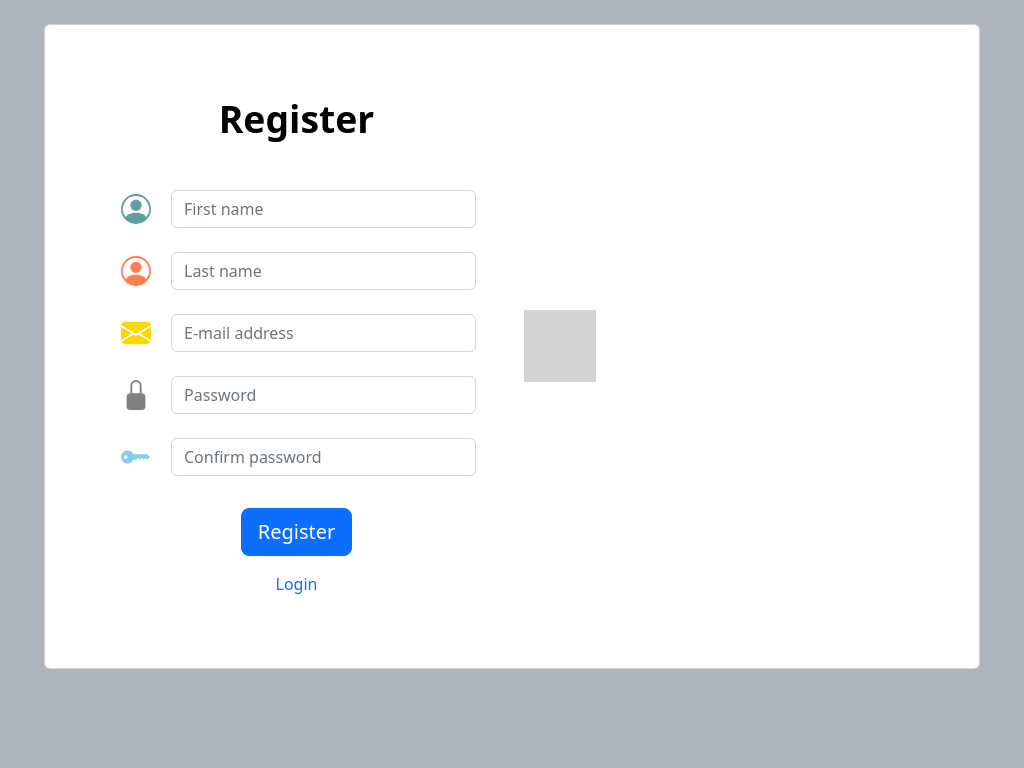
Test: After submitting a valid form on Register component › shows success alert if response is ok
Type "Tom" into the field with placeholder "First name". click: (324, 209)
box: [171,190,476,228]
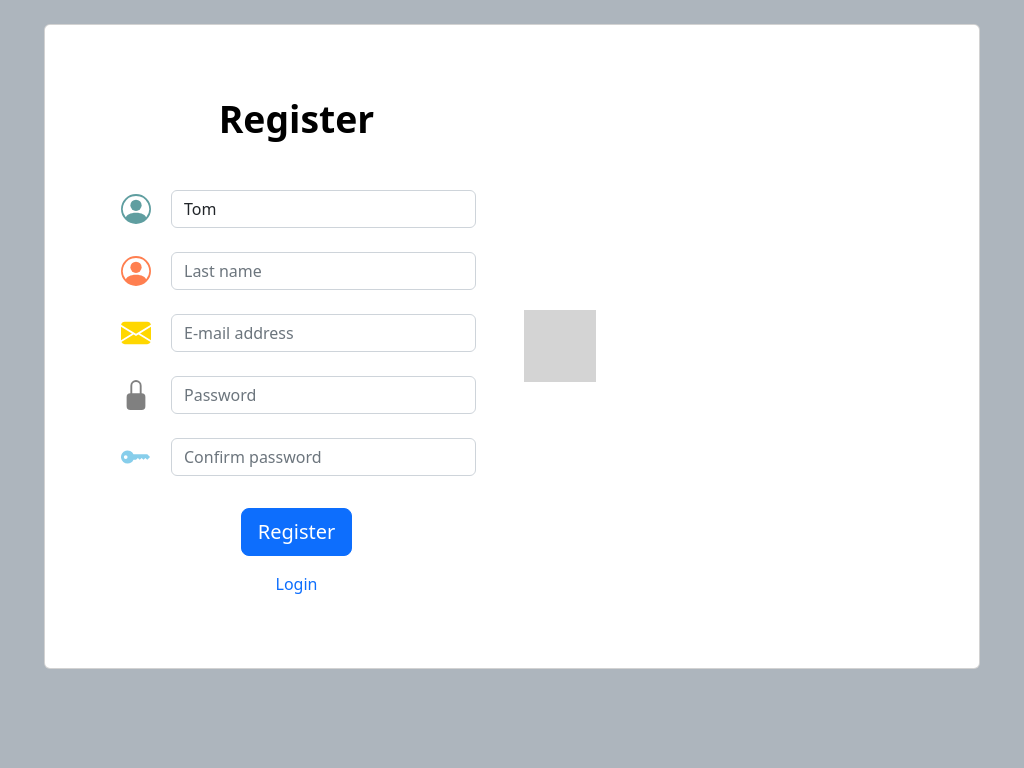
Type "Test" into the field with placeholder "Last name". click: (324, 271)
box: [171,252,476,290]
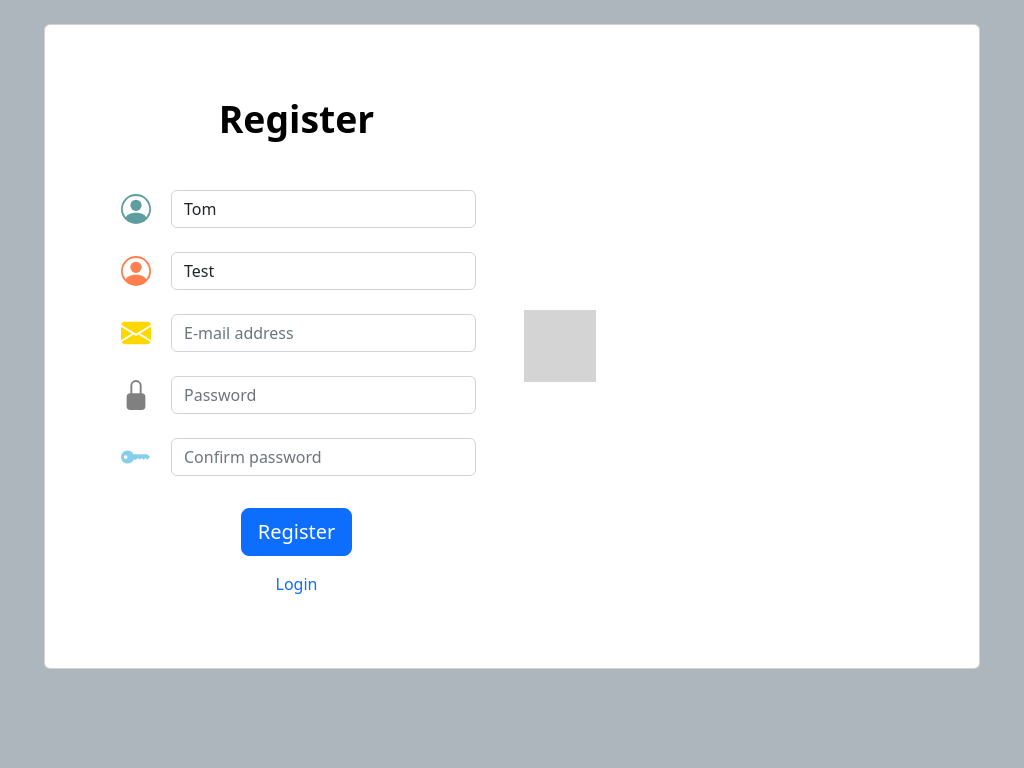
Type "tom-test@tmail.com" into the field with placeholder "E-mail address". click: (324, 333)
box: [171,314,476,352]
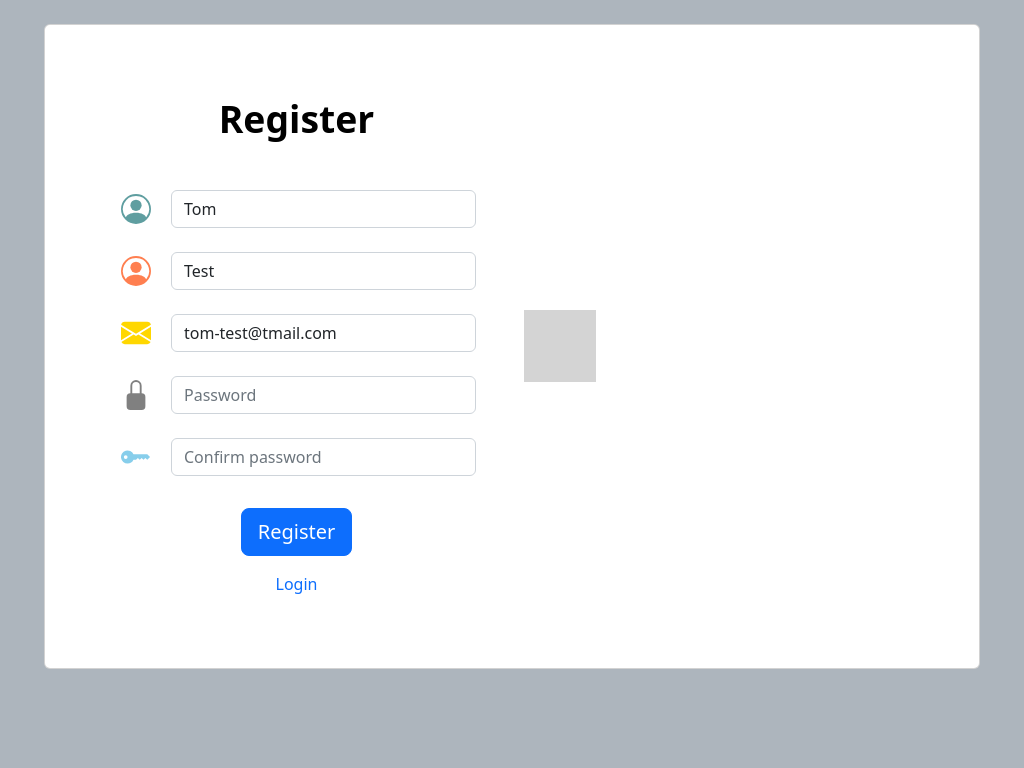
Type "1212qwQW" into the password field with placeholder "Password". click: (324, 395)
box: [171,376,476,414]
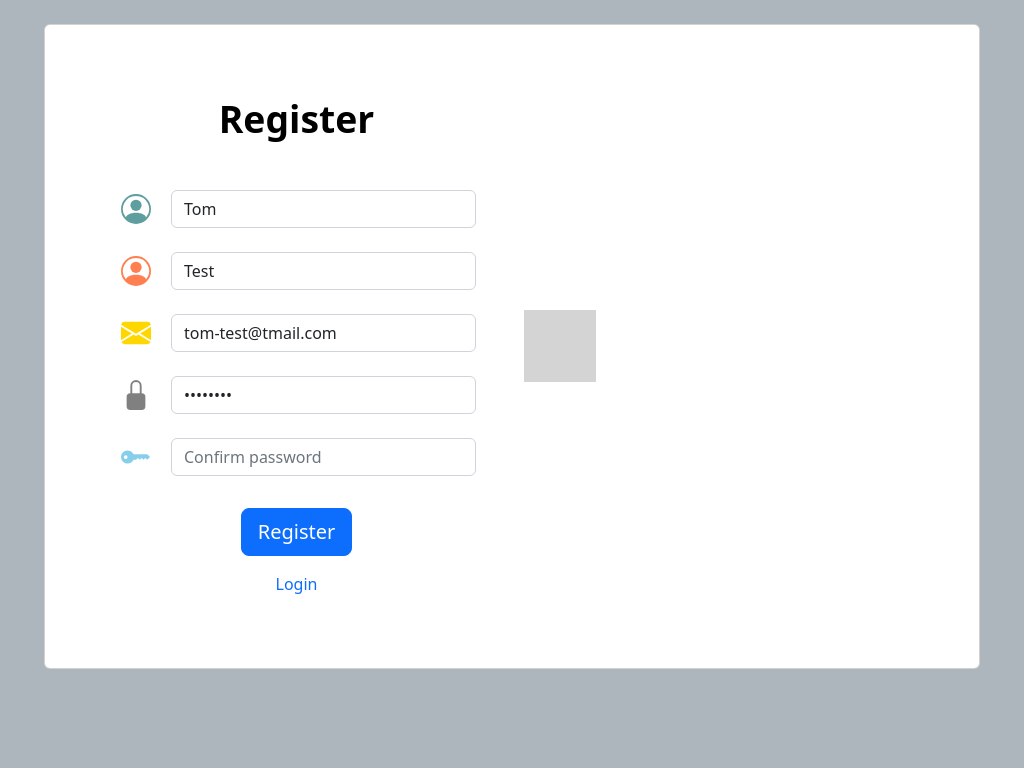
Type "1212qwQW" into the password field with placeholder "Confirm password". click: (324, 457)
box: [171,438,476,476]
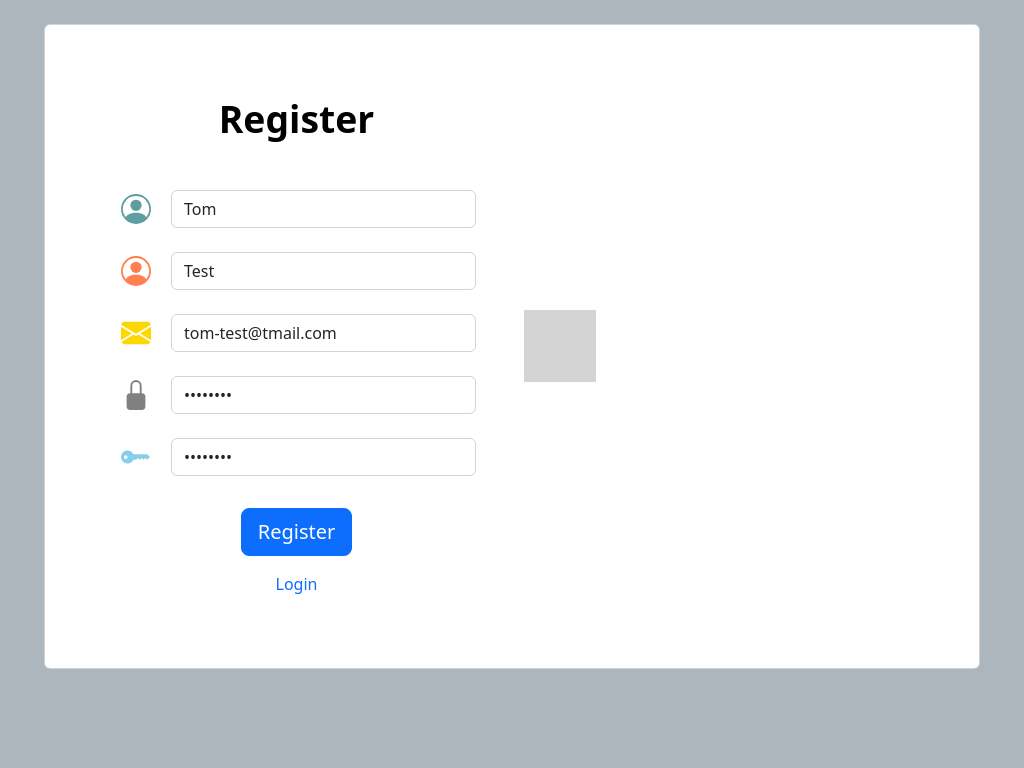
Click the button with test id "submit". click: (296, 532)
box: [241,508,352,556]
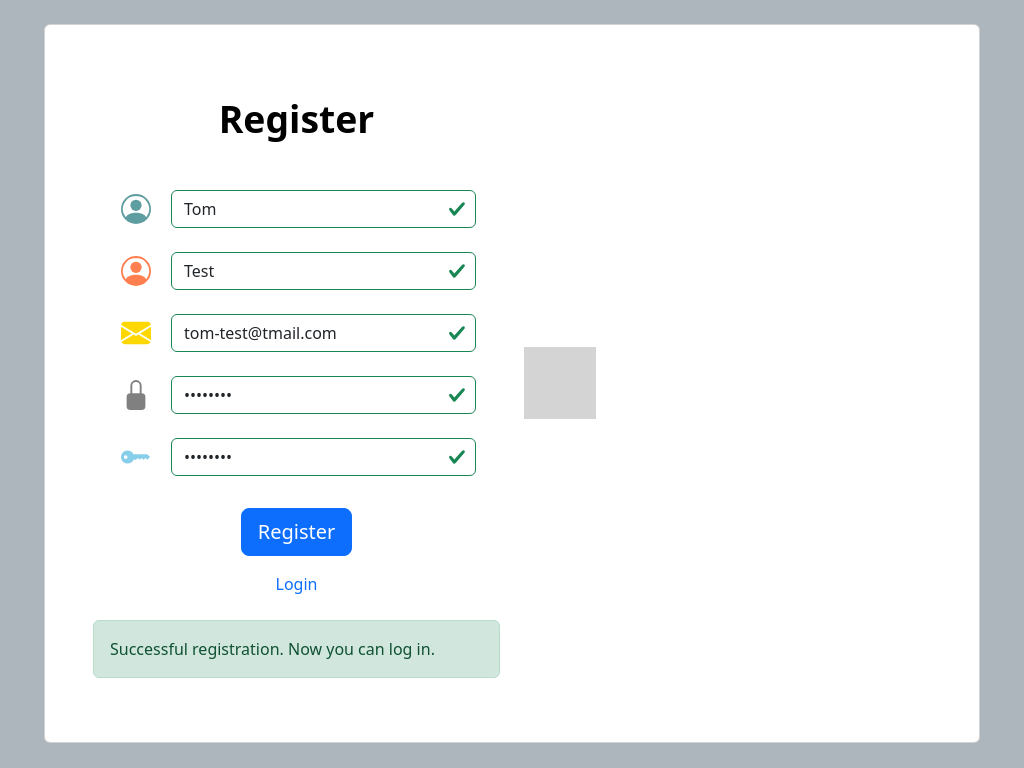
Check: the text "Successful registration. Now you can log in." is shown, box [93,620,500,678]
